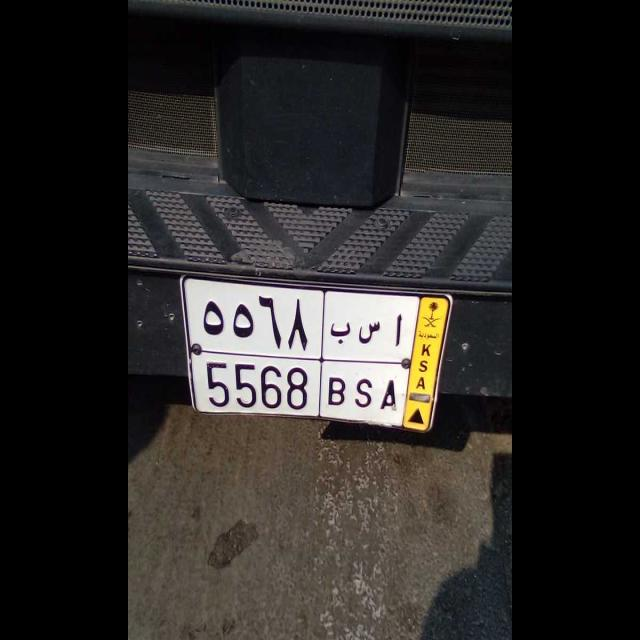license_plate: (188, 352, 406, 430)
